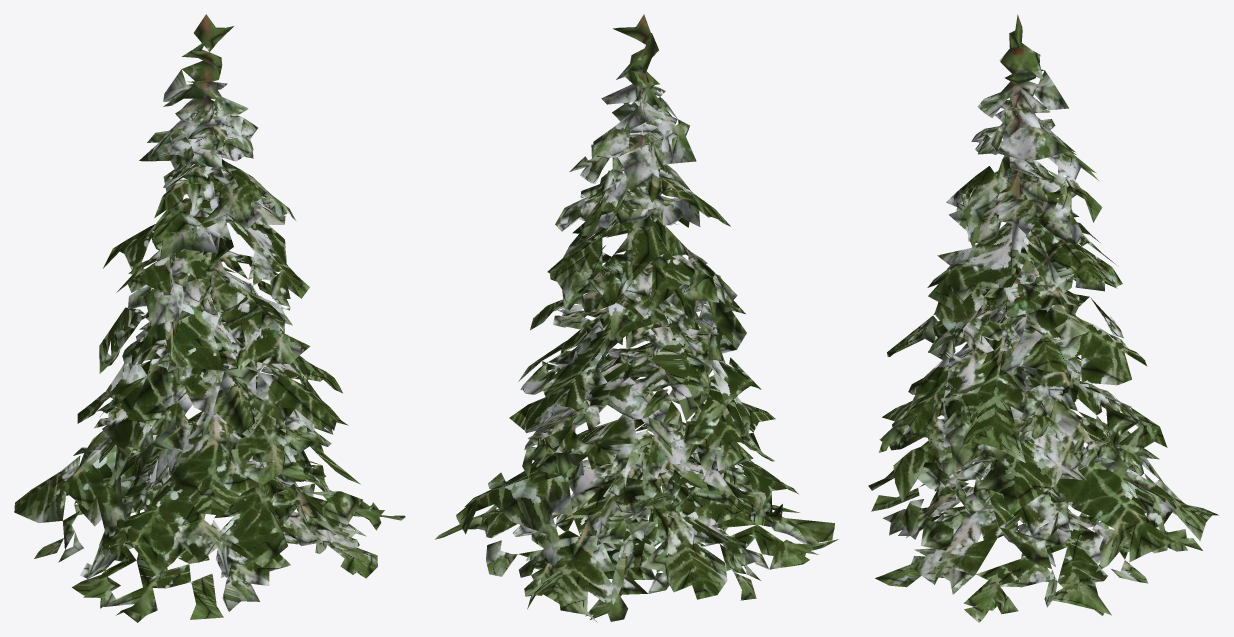
The model's file is tree_pine2.glb.
3 views of the same model, side by side, from view 1: azimuth 30°, elevation 25°; view 2: azimuth 150°, elevation 25°; view 3: azimuth 270°, elevation 25° (orthographic).
Size of the model in its own units: 0.5611 by 0.8737 by 0.5282.
Materials: 1 (1 with a texture image).
